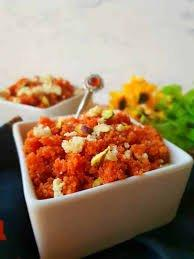Gajar ka halwa: (12, 107, 187, 253)
